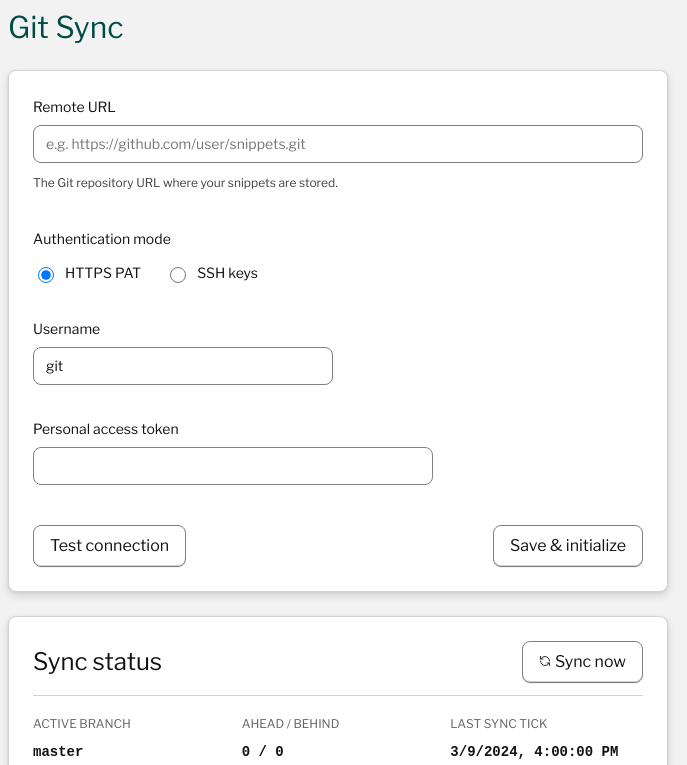
it: SyncPanel › missing pat for https shows inline error
Step 1. Type "https://example.com/repo.git" into the field labelled "Remote URL" → (338, 144), box [33,125,643,163]
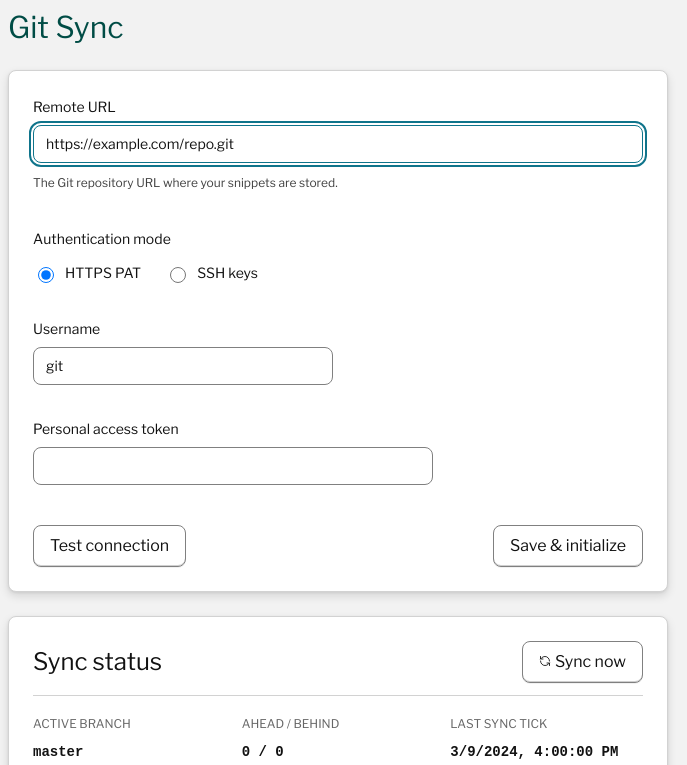
Step 2. Click the button "Save & initialize" → (568, 546), box [493,525,643,567]
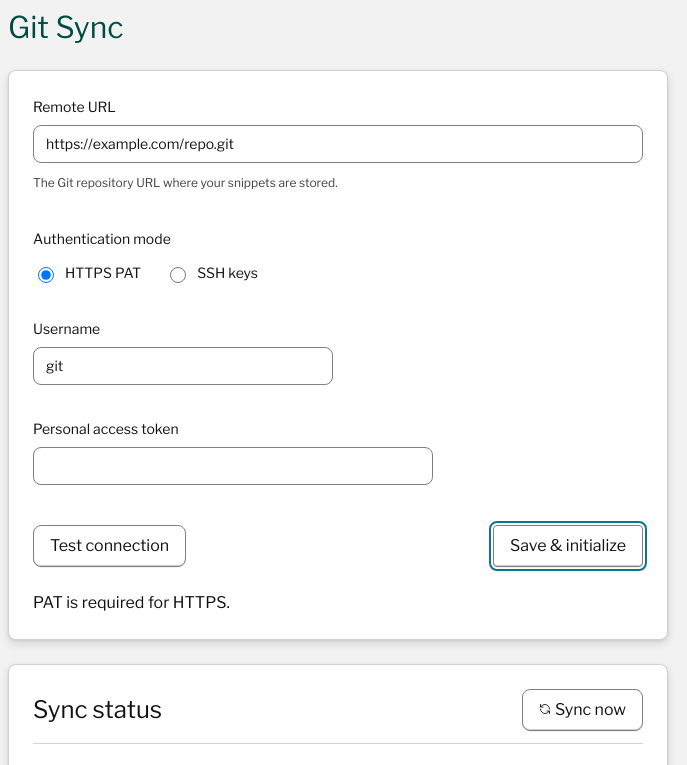
Now the text "PAT is required for HTTPS." is shown, box [33,591,230,615]
